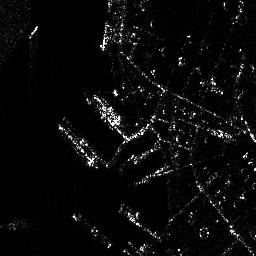ship: (93, 92, 122, 126)
